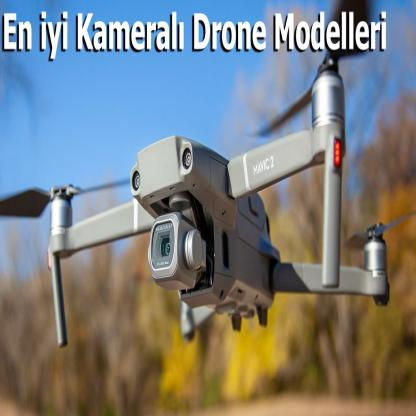drone: (29, 57, 410, 327)
